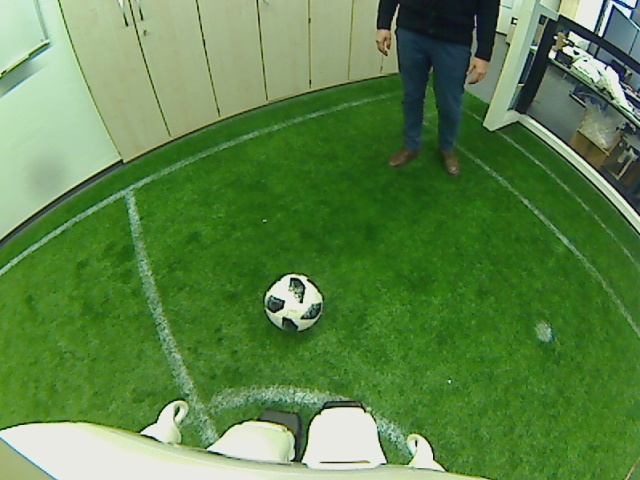ball: (259, 273, 327, 333)
